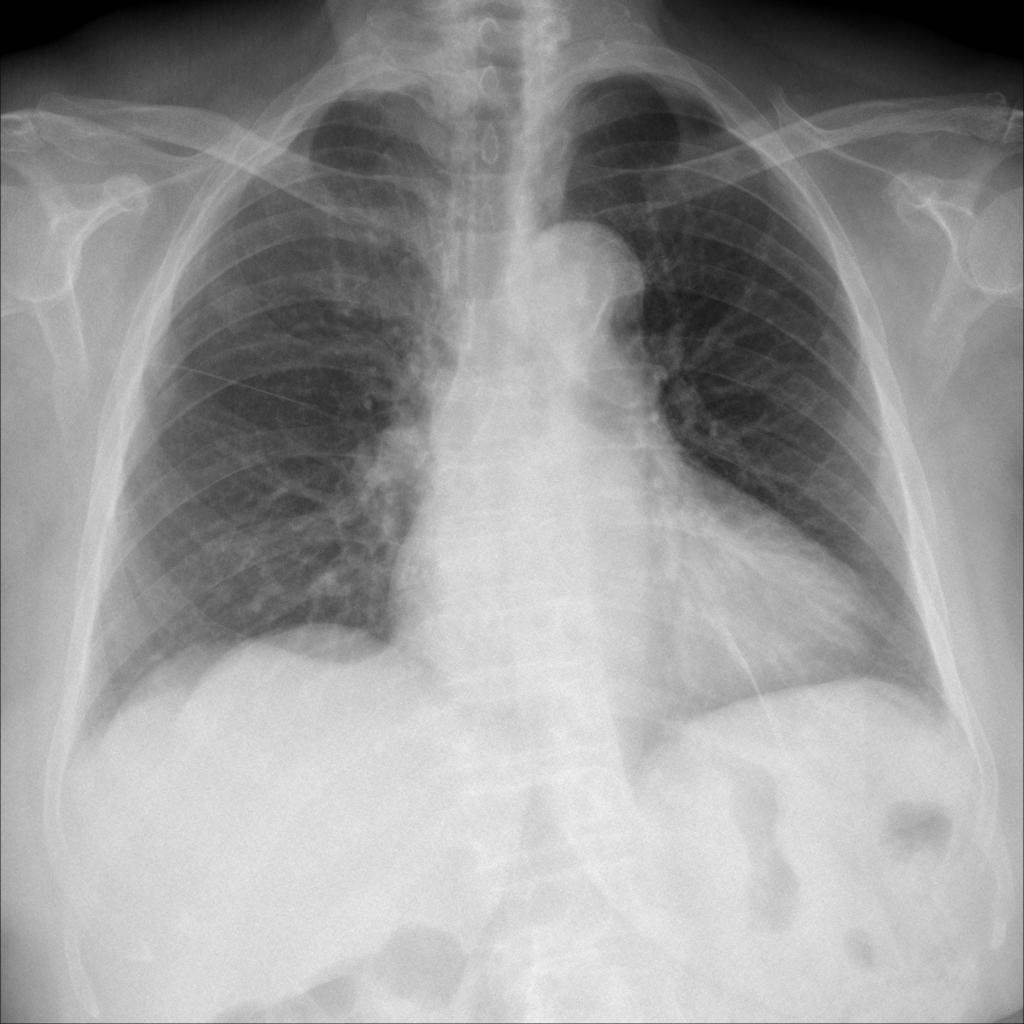Nodule: (186, 268, 287, 348)
